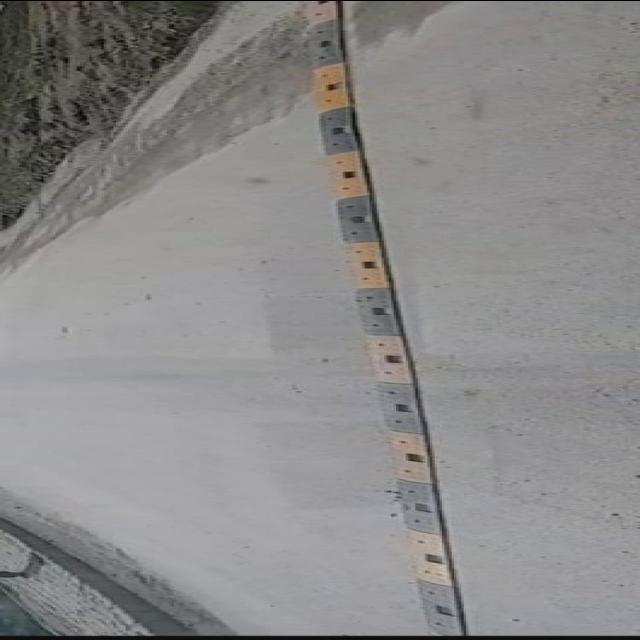speedbreaker: (306, 1, 470, 636)
